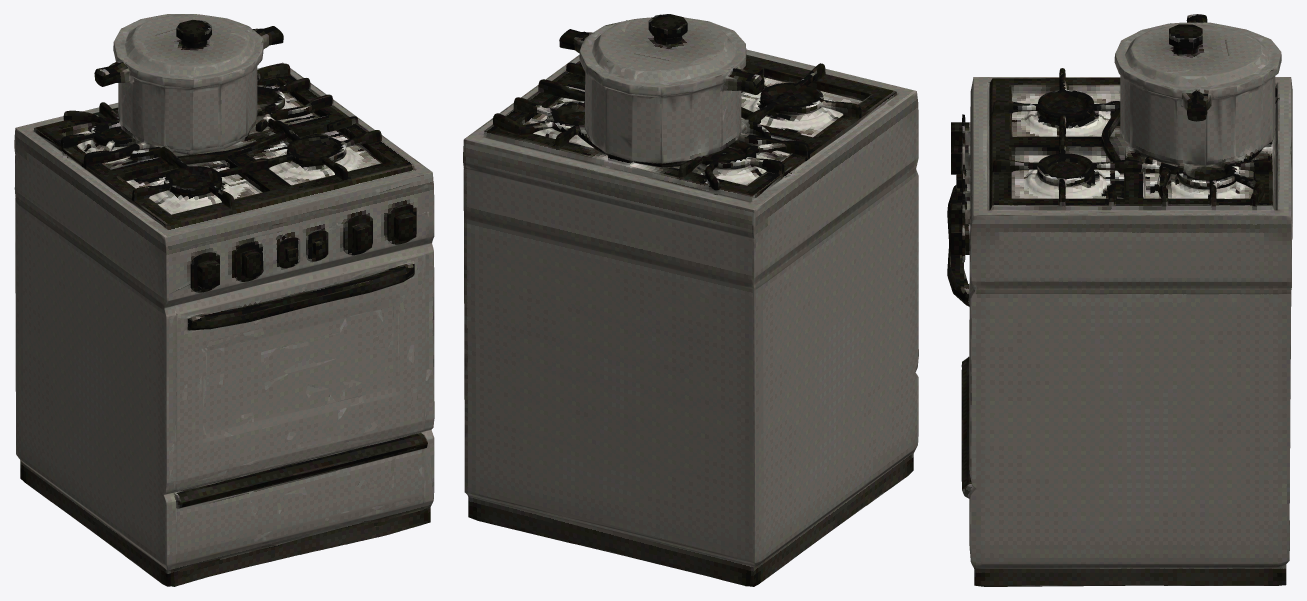
File: stove_psx.glb
3 views of the same model, side by side, from view 1: azimuth 30°, elevation 25°; view 2: azimuth 150°, elevation 25°; view 3: azimuth 270°, elevation 25° (orthographic). The views are drawn at different scales.
Parts seen in each view (by area): view 1: stove_psx; view 2: stove_psx; view 3: stove_psx.
Boxes of the visible parts, x1=… form: stove_psx: x1=14, y1=14, x2=434, y2=586; stove_psx: x1=463, y1=14, x2=918, y2=586; stove_psx: x1=947, y1=14, x2=1292, y2=586.
Bounding box in the file's own units: 0.5594 × 0.9159 × 0.5882.
Materials: 1 (1 with a texture image).
